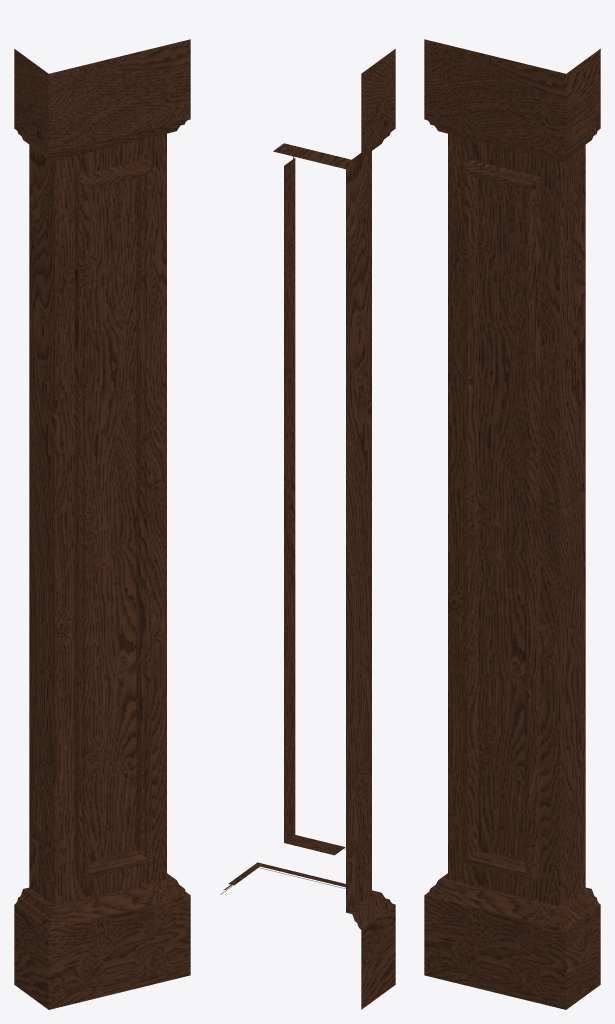
The model's file is mansion_column.glb.
The picture shows the model from 3 angles, left to right: view 1: azimuth 30°, elevation 25°; view 2: azimuth 150°, elevation 25°; view 3: azimuth 330°, elevation 25°; orthographic projection.
Parts seen in each view (by area): view 1: SM_Wall_Column; view 2: SM_Wall_Column; view 3: SM_Wall_Column.
Boxes of the visible parts, x1=… form: SM_Wall_Column: x1=14, y1=39, x2=190, y2=1009; SM_Wall_Column: x1=220, y1=49, x2=395, y2=1009; SM_Wall_Column: x1=424, y1=39, x2=600, y2=1009.
Bounding box in the file's own units: 0.6344 × 4 × 0.2672.
1 material, 1 textured.
